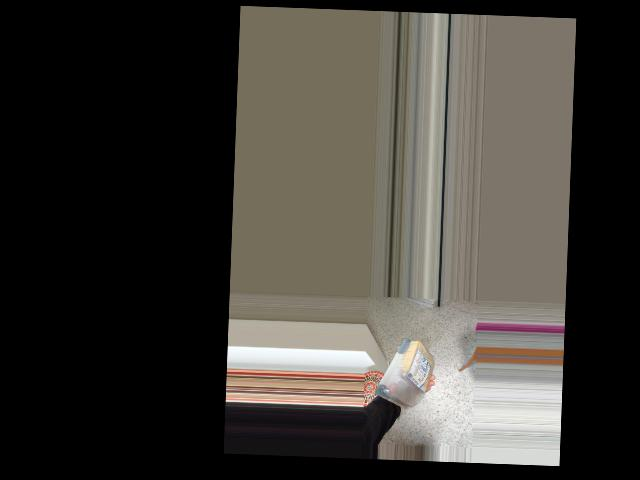cheese: (375, 334, 436, 420)
